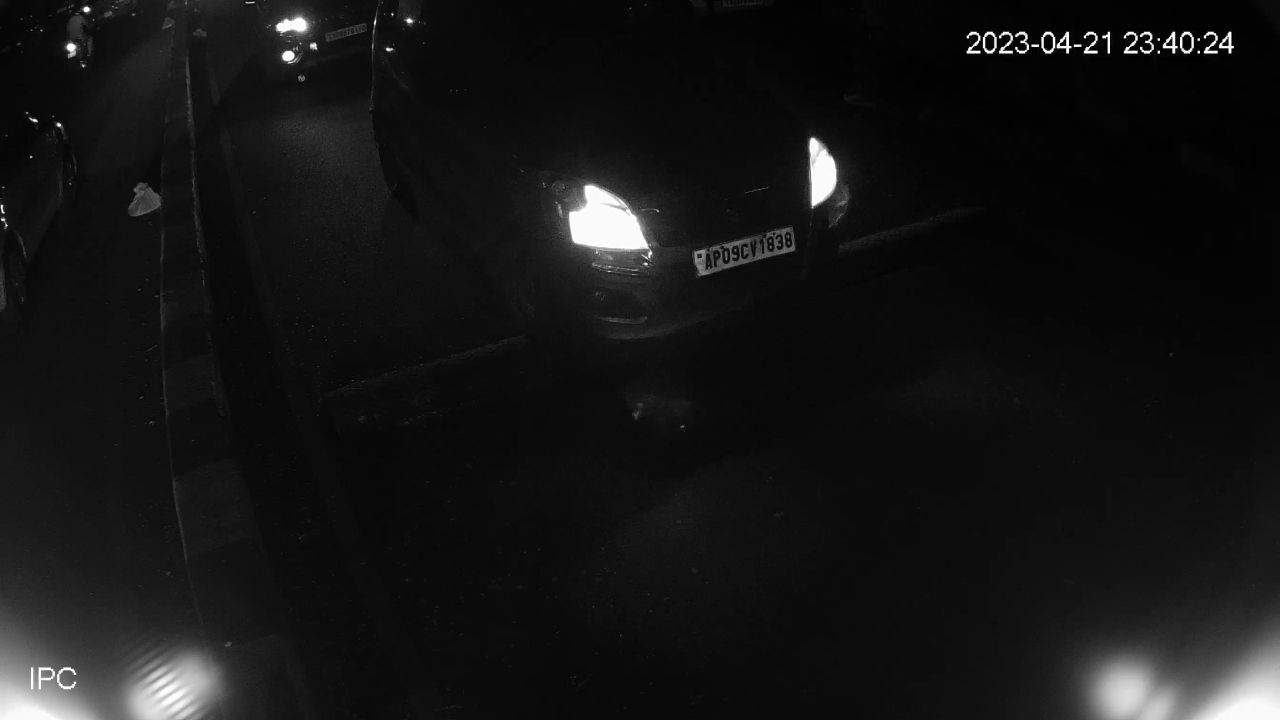license_plate: (692, 220, 799, 282)
